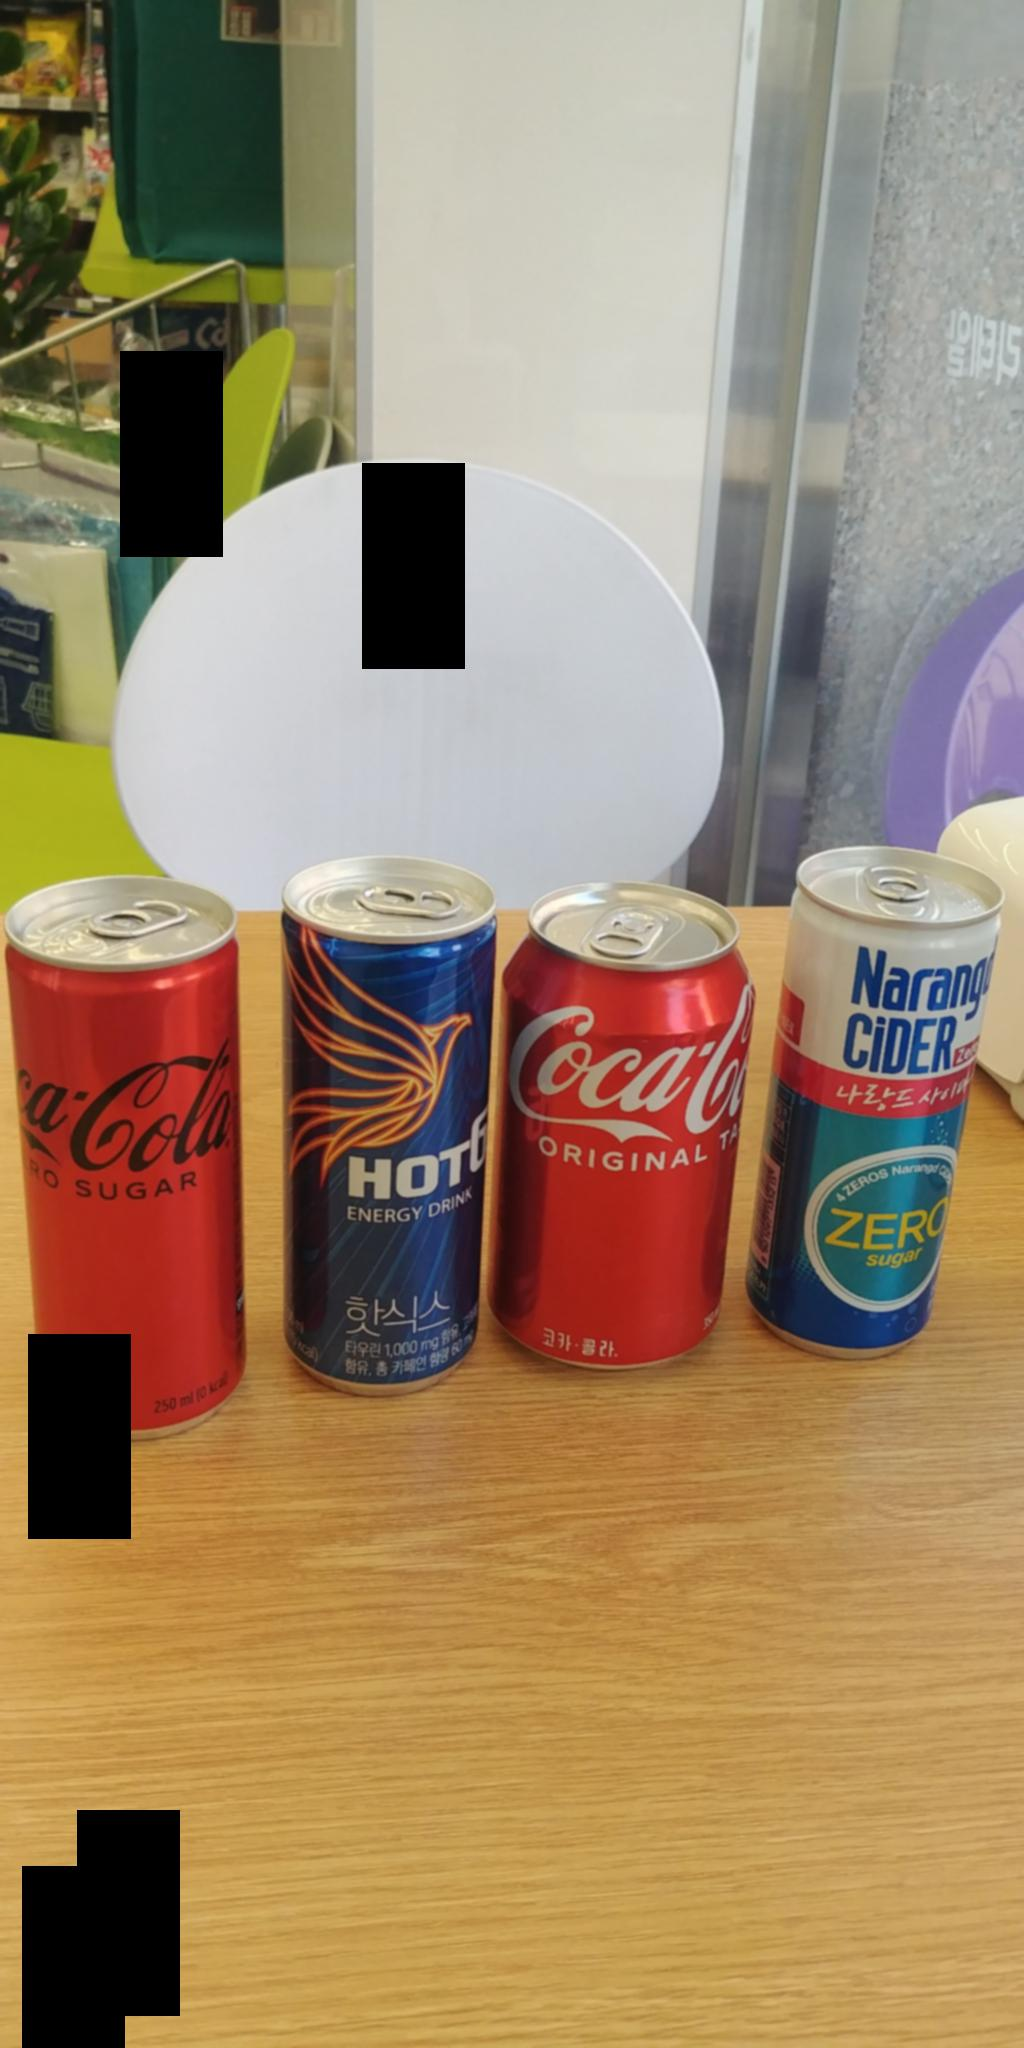cocacola: (509, 880, 758, 1379)
hotsix_org: (272, 852, 486, 1399)
narangdcider: (775, 822, 973, 1366)
